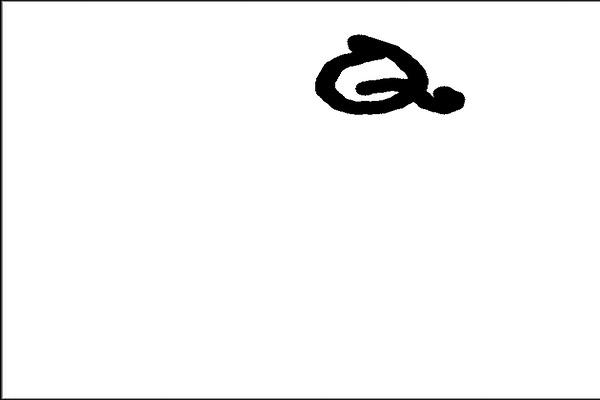Q: (300, 23, 470, 121)
